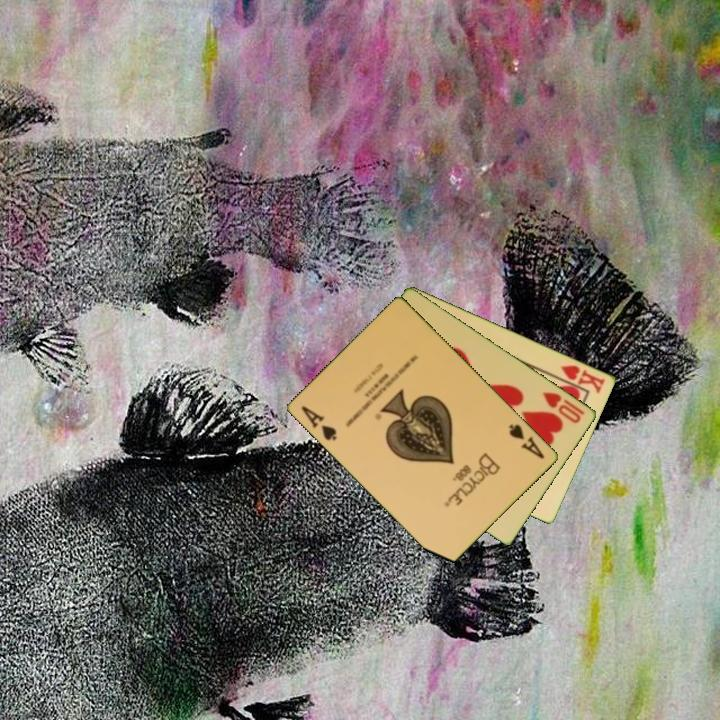10h: (539, 388, 588, 426)
As: (298, 402, 340, 444), (506, 421, 548, 462)
Kh: (551, 361, 608, 396)
